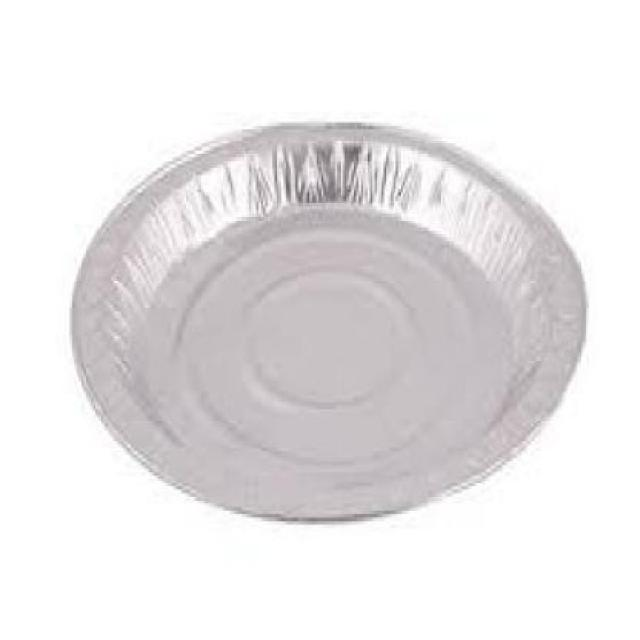METAL: (67, 119, 587, 522)
